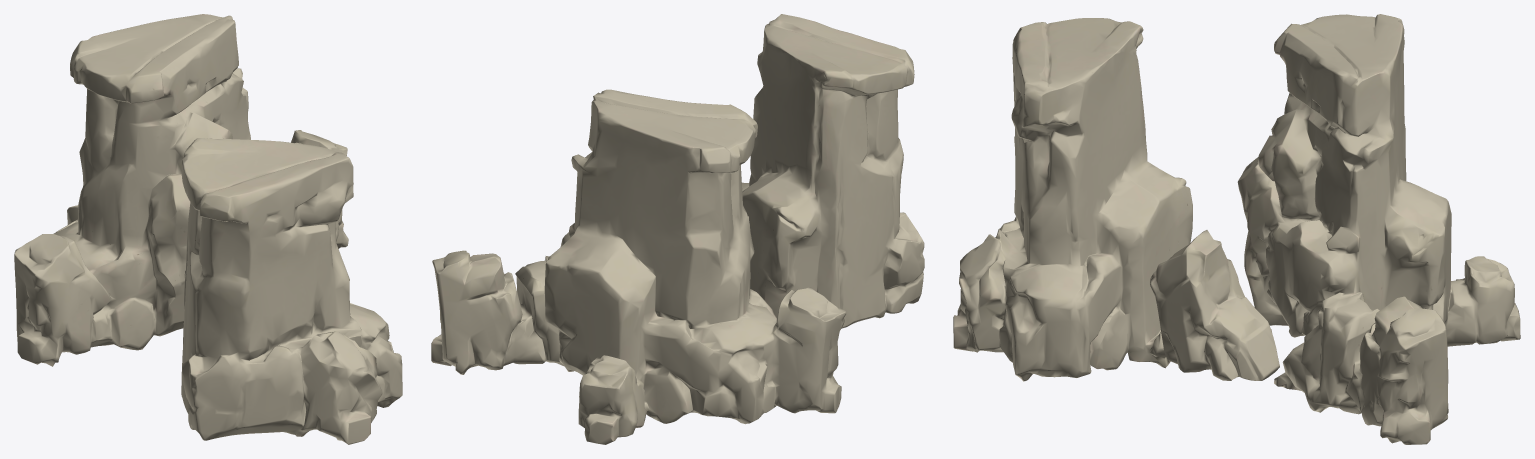
The model's file is deco_boulder_01.fbx.
3 views of the same model, side by side, from view 1: azimuth 30°, elevation 25°; view 2: azimuth 150°, elevation 25°; view 3: azimuth 270°, elevation 25° (orthographic). The views are drawn at different scales.
Visible parts, largest first — view 1: tripo_node_cfe98452-c0ab-493d-8623-5915a35c97c0; view 2: tripo_node_cfe98452-c0ab-493d-8623-5915a35c97c0; view 3: tripo_node_cfe98452-c0ab-493d-8623-5915a35c97c0.
Part boxes in pixels (x1,y1,x2,y2): tripo_node_cfe98452-c0ab-493d-8623-5915a35c97c0: (14,14,402,444); tripo_node_cfe98452-c0ab-493d-8623-5915a35c97c0: (431,14,924,444); tripo_node_cfe98452-c0ab-493d-8623-5915a35c97c0: (953,14,1520,444).
Size of the model in its own units: 79.21 by 58.72 by 98.07.
1 material, 1 textured.
